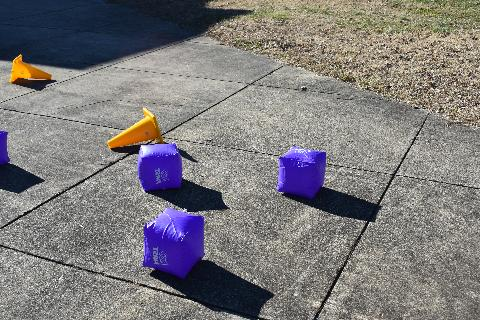cone: (108, 108, 164, 148), (11, 54, 51, 82)
cube: (143, 208, 205, 278), (278, 146, 326, 200), (137, 144, 181, 192), (0, 130, 10, 164)
